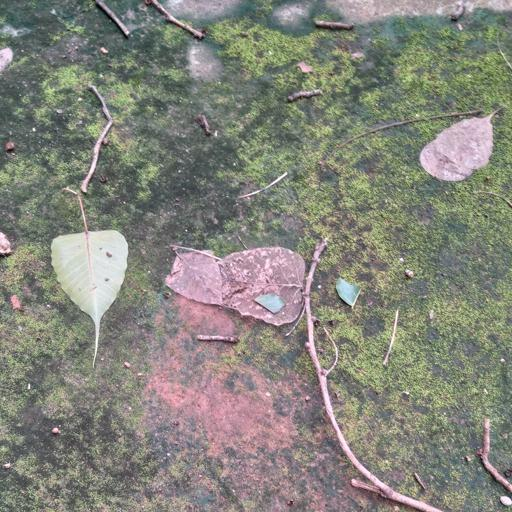algae: (5, 1, 512, 499)
